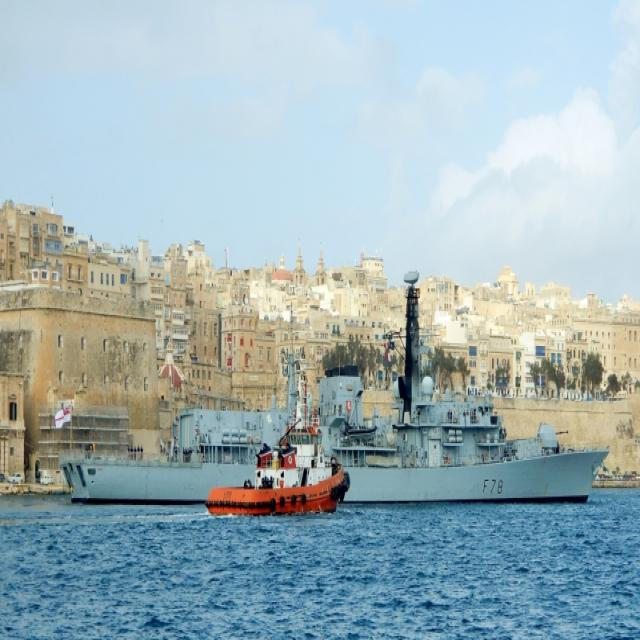Fragata: (64, 254, 611, 512)
